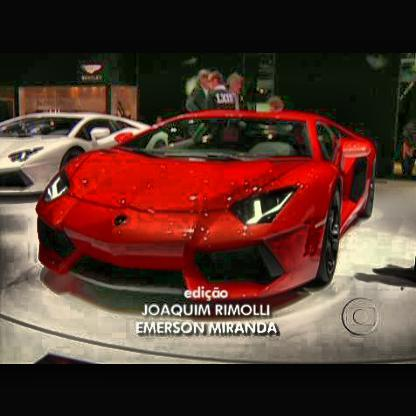Lamborghini Aventador Coupe 2012: (37, 112, 378, 303)
